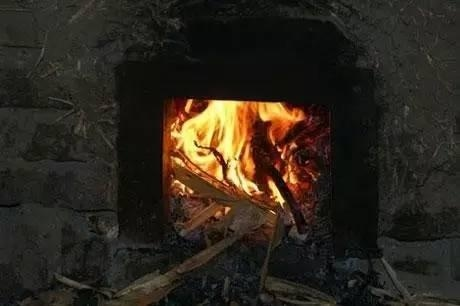fire: (165, 97, 305, 195), (267, 178, 286, 206)
